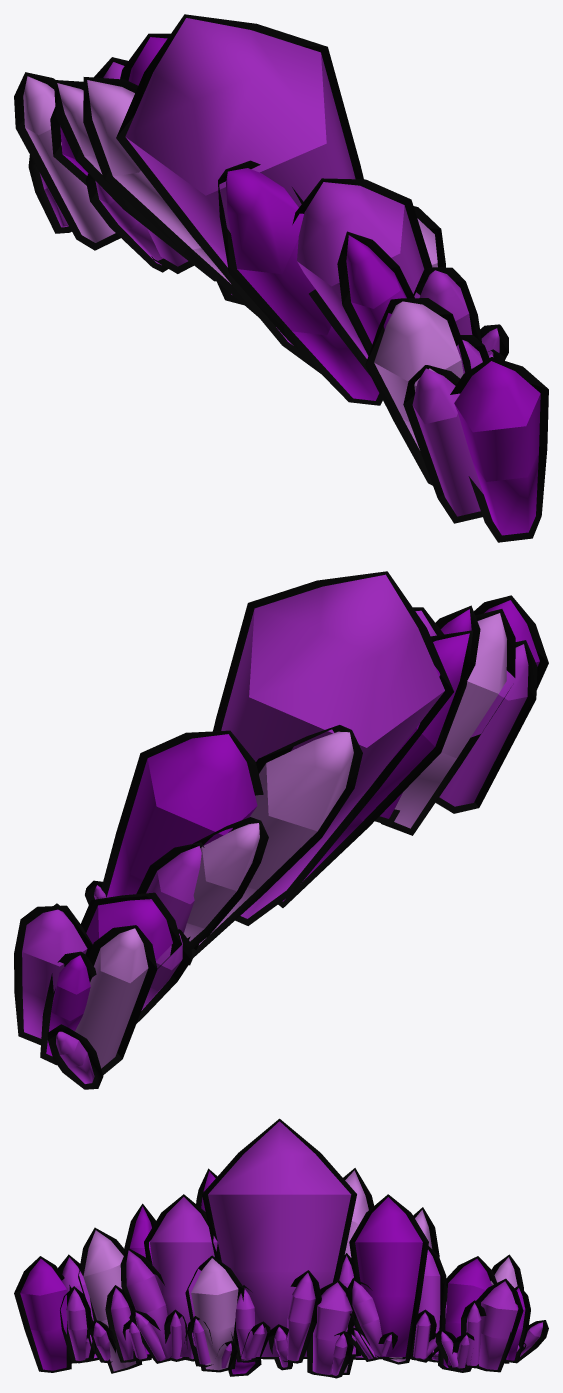
Rendered from indestructible_wall.FBX.
The picture shows the model from 3 angles, top to bottom: view 1: azimuth 30°, elevation 25°; view 2: azimuth 150°, elevation 25°; view 3: azimuth 270°, elevation 25°; orthographic projection. The views are drawn at different scales.
Parts seen in each view (by area): view 1: Cylinder004, Cylinder005; view 2: Cylinder004, Cylinder005; view 3: Cylinder004, Cylinder005.
Part boxes in pixels (x1,y1,x2,y2): Cylinder004: (23,18,540,535); Cylinder005: (14,14,548,542); Cylinder004: (22,574,539,1083); Cylinder005: (14,571,548,1089); Cylinder004: (20,1121,542,1375); Cylinder005: (14,1118,548,1378).
Size of the model in its own units: 0.6321 by 0.9497 by 2.08.
